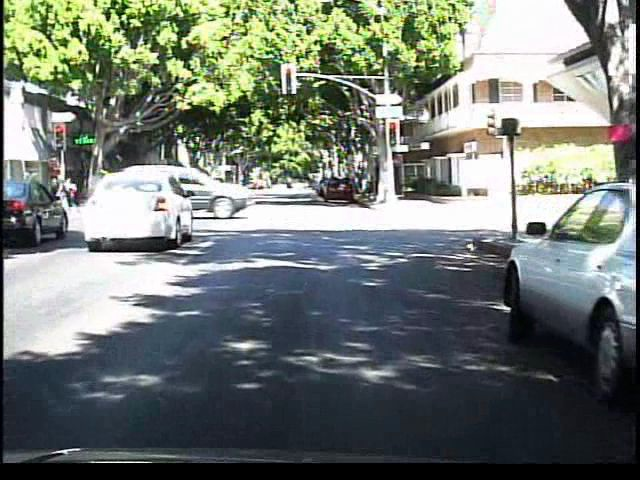person: (59, 164, 83, 211)
